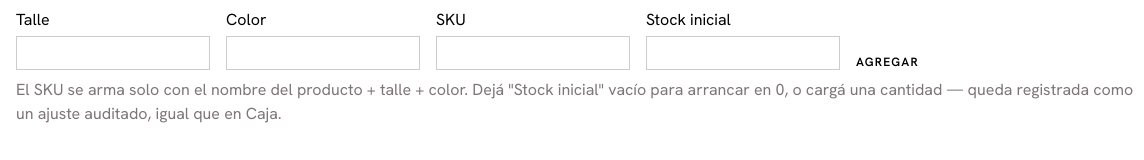
AddVariantForm › auto-derives the SKU from the product name + talle + color as they're typed
Type "S" into the field labelled "Talle" at (113, 53), box [16,36,210,70]
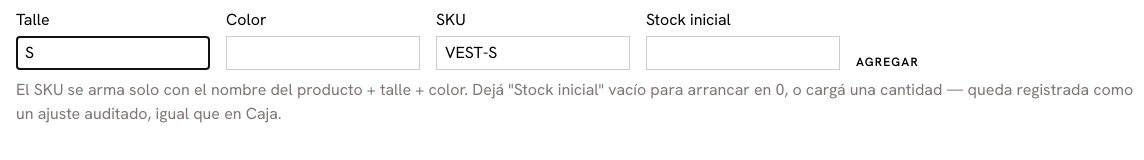
Type "Negro" into the field labelled "Color" at (323, 53), box [226,36,420,70]
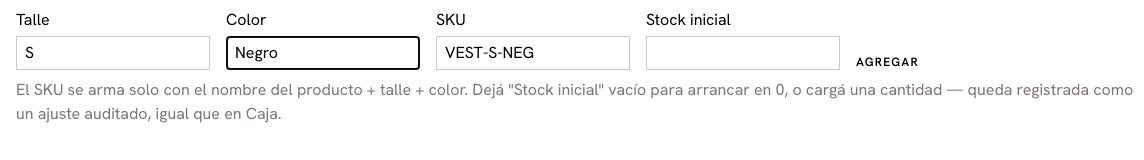
Check: the field labelled "SKU" holds "VEST-S-NEG", box [436,36,630,70]
